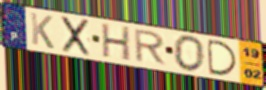D: (205, 38, 240, 77)
H: (101, 22, 132, 63)
K: (29, 11, 56, 51)
O: (172, 34, 207, 74)
R: (133, 28, 168, 67)
X: (61, 14, 92, 58)
